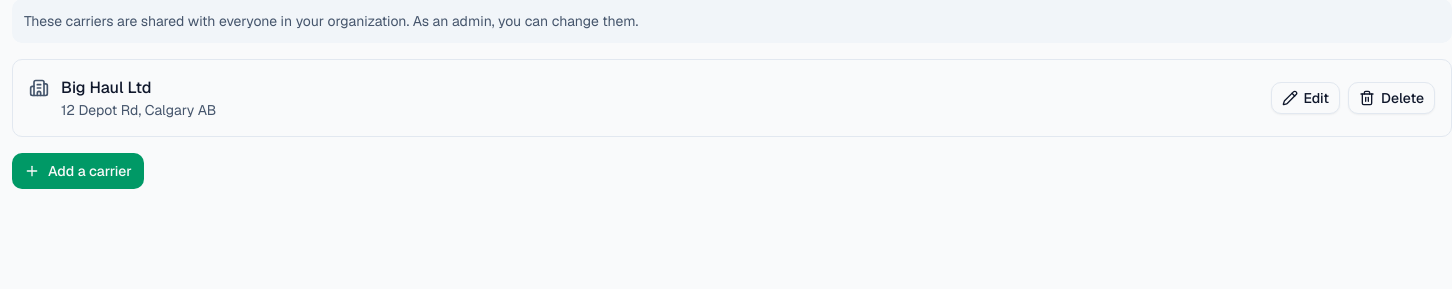
Test: CarrierList in an organization's space › edits one of an organization's carriers
The width and height of the screenshot is (1452, 289).
Later steps or results of the test are not shown.
Click the button with aria-label "Edit Big Haul Ltd".
click(1305, 98)  # box left=1271, top=82, right=1340, bottom=114
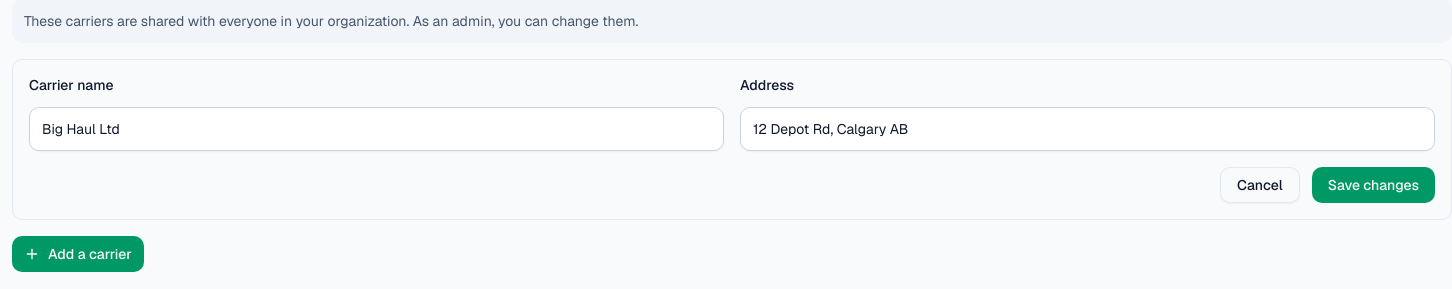
Check: the form named "Edit carrier" is shown, box left=29, top=76, right=1435, bottom=203
Check: the field labelled "Carrier name" holds "Big Haul Ltd", box left=29, top=107, right=724, bottom=151
